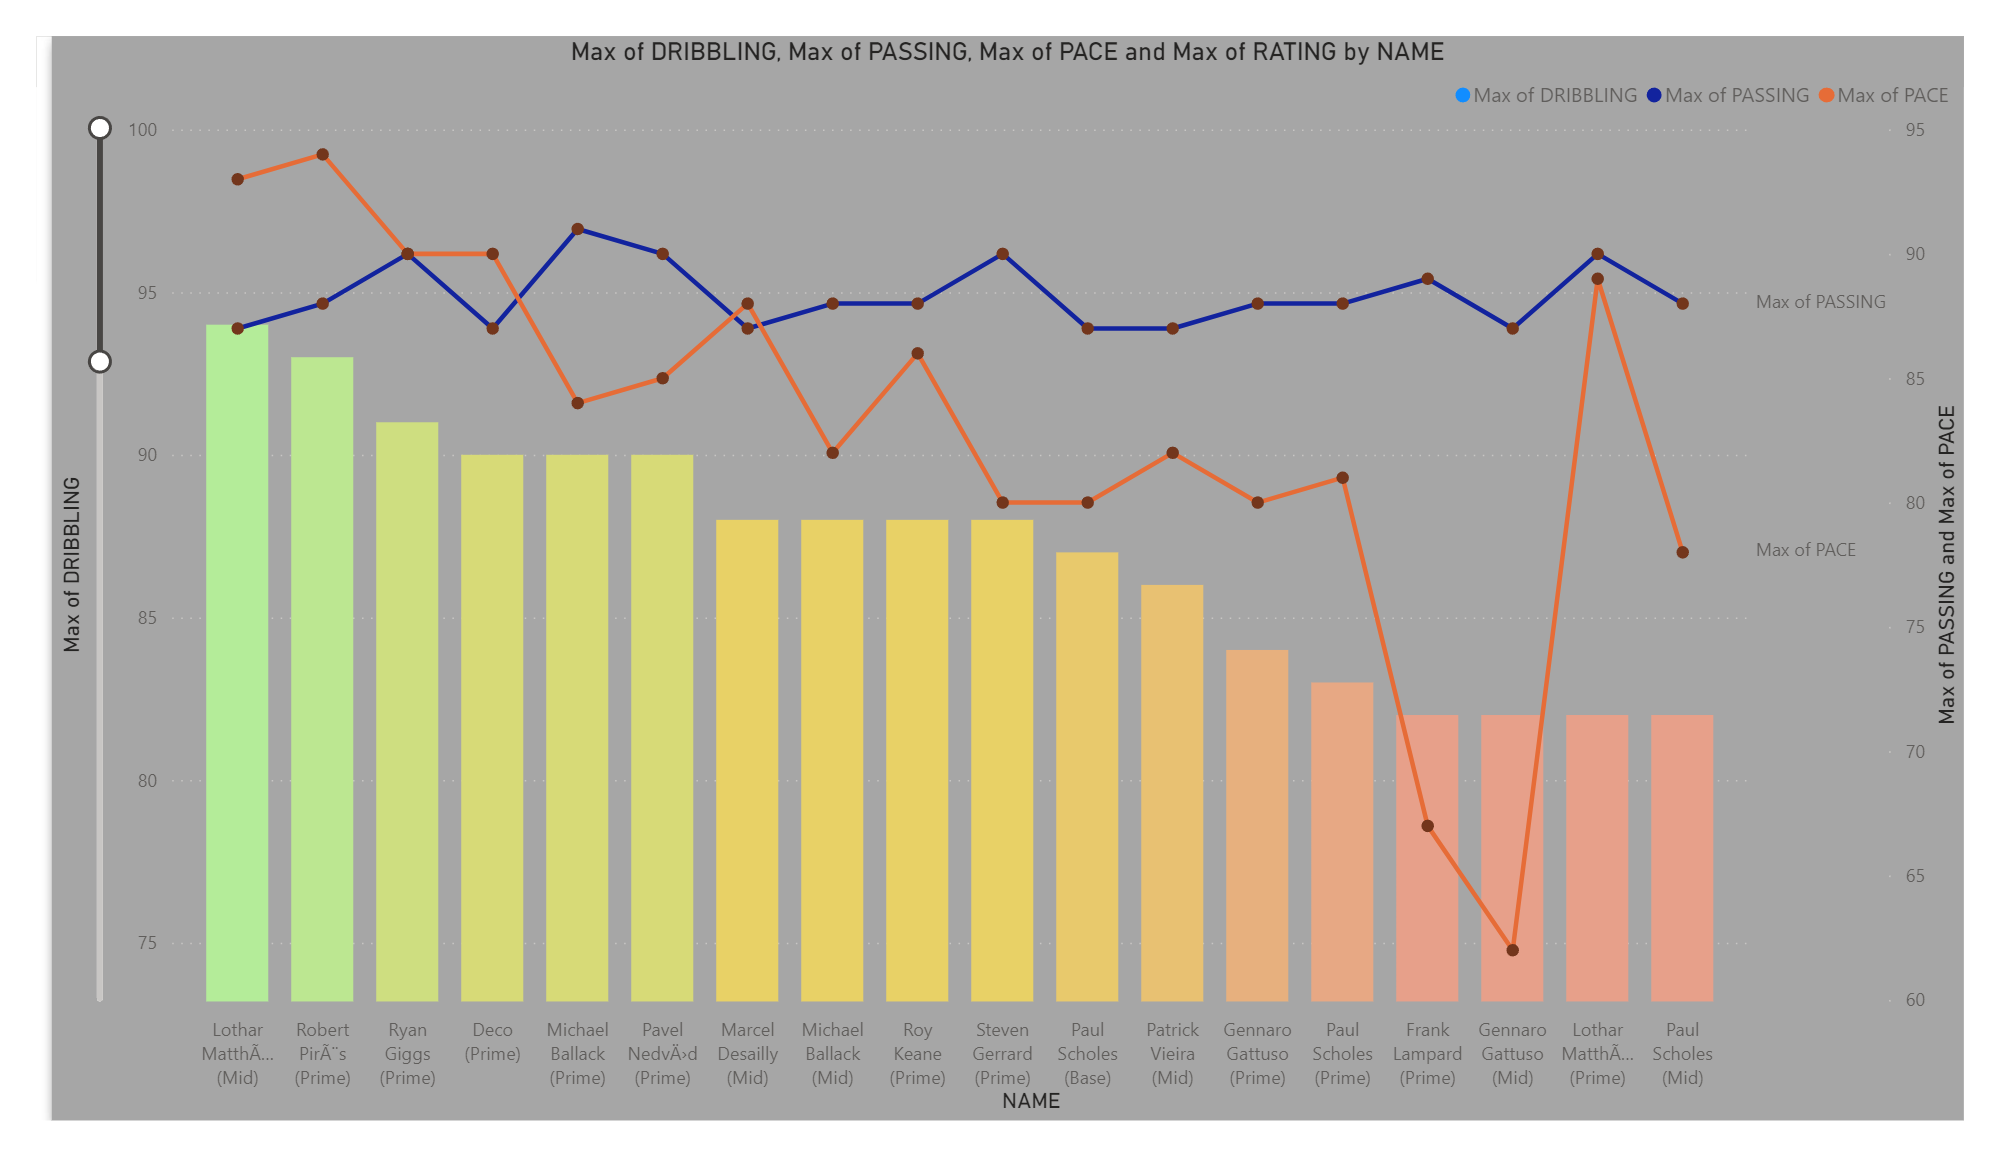

Layout of this report page (visuals, bound fields, positions):
{"tool":"powerbi","page":{"name":"Top Midfielders","canvas":[1280,720],"ordinal":1},"visuals":[{"type":"lineClusteredColumnComboChart","fields":{"Category":["ICONS.NAME"],"Y2":["ICONS.PASSING","ICONS.PACE"],"Y":["ICONS.DRIBBLING"]},"box":[10.1,0,1269.7,720],"z":0}]}

Visuals, with their boxes on the page's 1280x720 design canvas (x1, y1, x2, y2). These are canvas units, not pixel positions in the 2000x1156 screenshot, which may show the page scaled, cropped or inside an application window:
lineClusteredColumnComboChart - ICONS.NAME x ICONS.PASSING: 10/0/1280/720
